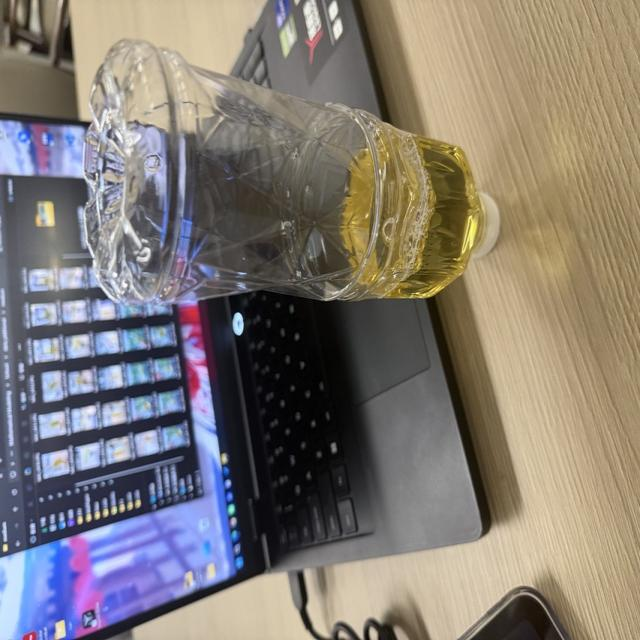low: (84, 40, 493, 301)
